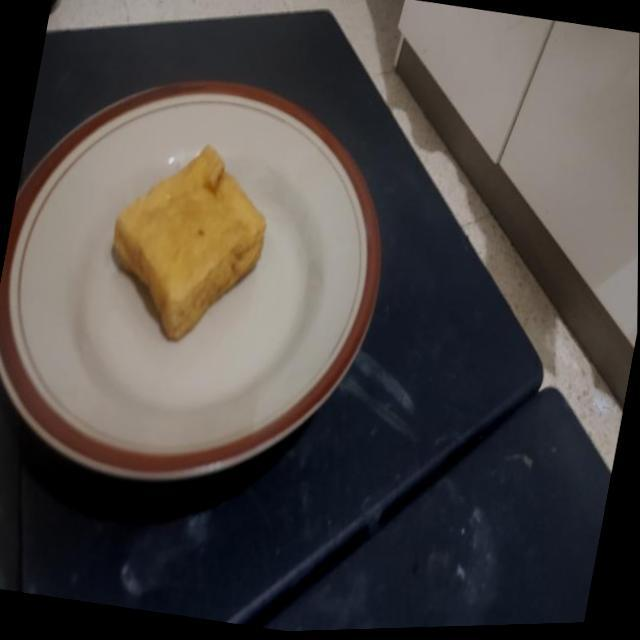tahu_goreng: (114, 146, 265, 340)
